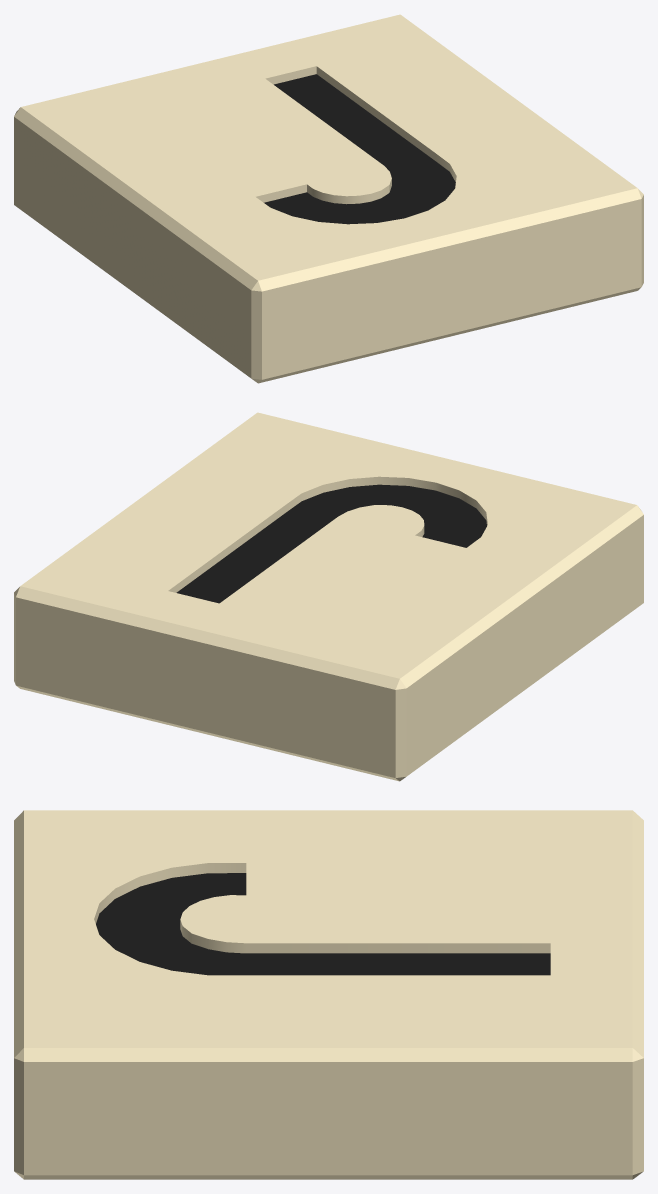
File: Game_Anagram_Tile_J_01.fbx
3 renders of one model, top to bottom at view 1: azimuth 30°, elevation 25°; view 2: azimuth 150°, elevation 25°; view 3: azimuth 270°, elevation 25°, orthographic. The views are drawn at different scales.
Visible parts, largest first — view 1: Game_Anagram_Tile_J_01; view 2: Game_Anagram_Tile_J_01; view 3: Game_Anagram_Tile_J_01.
Boxes of the visible parts, bbox=[...] form: Game_Anagram_Tile_J_01: bbox=[14, 14, 643, 383]; Game_Anagram_Tile_J_01: bbox=[14, 412, 643, 781]; Game_Anagram_Tile_J_01: bbox=[14, 810, 643, 1179].
Size of the model in its own units: 16.4 by 4.1 by 17.77.
